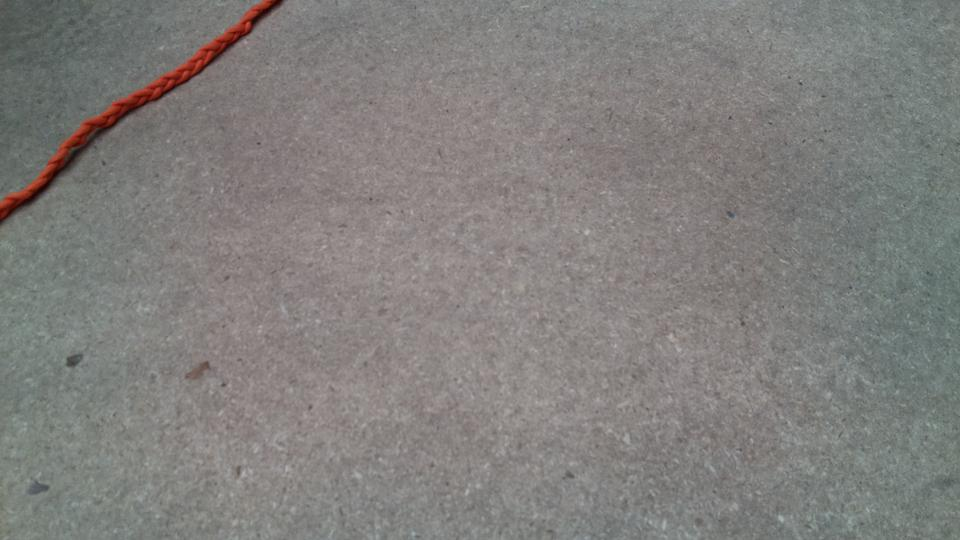rope: (1, 1, 268, 213)
